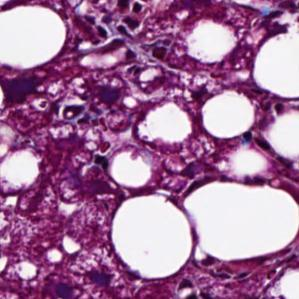inflammation: (80, 0, 149, 40), (172, 278, 215, 299), (88, 150, 112, 173)
